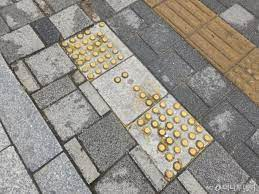guide_blocks: (164, 1, 259, 93)
